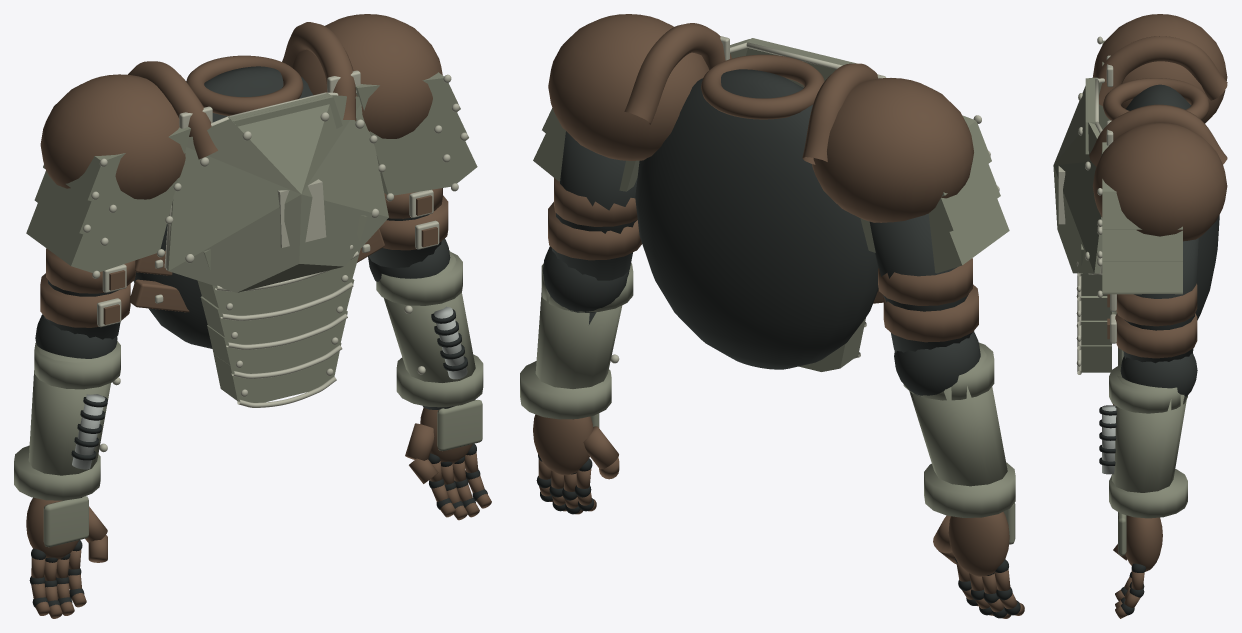
3 views of the same model, side by side, from view 1: azimuth 30°, elevation 25°; view 2: azimuth 150°, elevation 25°; view 3: azimuth 270°, elevation 25° (orthographic). The views are drawn at different scales.
Visible parts, largest first — view 1: forged convex breastplate, leather shoulder cap, leather shoulder cap.001, layered shoulder steel.002, metal bracer shell, overlapping abdominal plate 4, padded torso, metal bracer shell.001, layered shoulder steel.001, layered shoulder steel.005, overlapping abdominal plate 2, overlapping abdominal plate 1 (+32 smaller); view 2: padded torso, leather shoulder cap, leather shoulder cap.001, metal bracer shell, metal bracer shell.001, padded upper sleeve.001, empty armored neck rim, padded upper sleeve, leather shoulder harness.001, layered shoulder steel.002, cloth elbow, bracer end collar.001 (+17 smaller); view 3: leather shoulder cap.001, forged convex breastplate, metal bracer shell.001, leather shoulder cap, leather shoulder harness, layered shoulder steel.005, leather shoulder harness.001, layered shoulder steel.004, upper arm leather binding.003, padded torso, bracer end collar.003, upper arm leather binding.002 (+14 smaller).
Boxes of the visible parts, x1,y1,x2,y2 form: forged convex breastplate: (167,95,388,292); leather shoulder cap: (40,74,185,199); leather shoulder cap.001: (291,14,442,138); layered shoulder steel.002: (26,195,173,272); metal bracer shell: (28,345,110,475); overlapping abdominal plate 4: (213,335,341,402); padded torso: (133,66,312,348); metal bracer shell.001: (384,250,475,382); layered shoulder steel.001: (34,170,178,239); layered shoulder steel.005: (376,136,477,195); overlapping abdominal plate 2: (200,279,354,344); overlapping abdominal plate 1: (197,249,360,315); padded torso: (635,69,878,369); leather shoulder cap: (812,78,973,222); leather shoulder cap.001: (548,14,709,160); metal bracer shell: (909,346,1007,486); metal bracer shell.001: (535,283,622,388); padded upper sleeve.001: (552,131,637,280); empty armored neck rim: (701,54,824,119); padded upper sleeve: (869,213,973,352); leather shoulder harness.001: (624,23,731,124); layered shoulder steel.002: (860,199,1009,273); cloth elbow: (894,331,980,396); bracer end collar.001: (924,462,1015,517); leather shoulder cap.001: (1092,123,1227,241); forged convex breastplate: (1053,77,1109,273); metal bracer shell.001: (1111,375,1186,492); leather shoulder cap: (1092,14,1227,123); leather shoulder harness: (1097,36,1227,105); layered shoulder steel.005: (1102,261,1182,294); leather shoulder harness.001: (1089,104,1227,166); layered shoulder steel.004: (1102,230,1182,261); upper arm leather binding.003: (1115,313,1197,358); padded torso: (1126,84,1219,320); bracer end collar.003: (1109,469,1187,518); upper arm leather binding.002: (1116,283,1197,326).
Size of the model in its own units: 0.9483 by 0.9987 by 0.3462.
